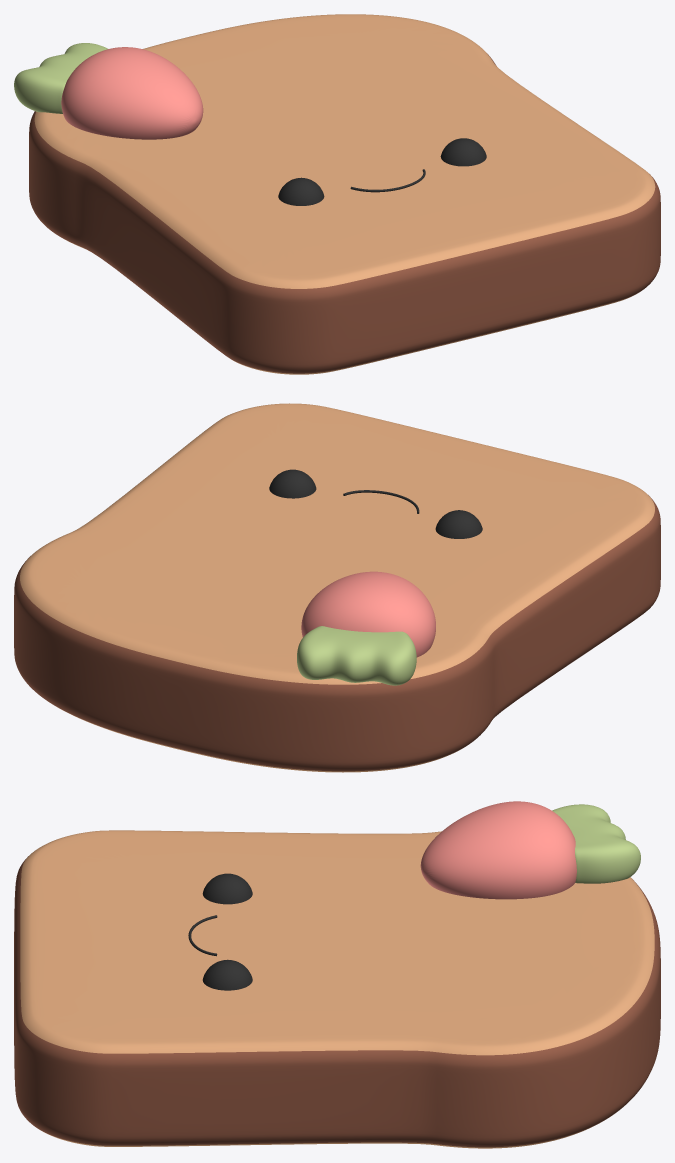
The model's file is bready.glb.
3 renders of one model, top to bottom at view 1: azimuth 30°, elevation 25°; view 2: azimuth 150°, elevation 25°; view 3: azimuth 270°, elevation 25°, orthographic. The views are drawn at different scales.
Parts seen in each view (by area): view 1: bready; view 2: bready; view 3: bready.
Boxes of the visible parts, x1=… form: bready: x1=14, y1=14, x2=660, y2=374; bready: x1=14, y1=403, x2=660, y2=772; bready: x1=14, y1=801, x2=660, y2=1148.
Size of the model in its own units: 1.54 by 0.5077 by 1.83.
